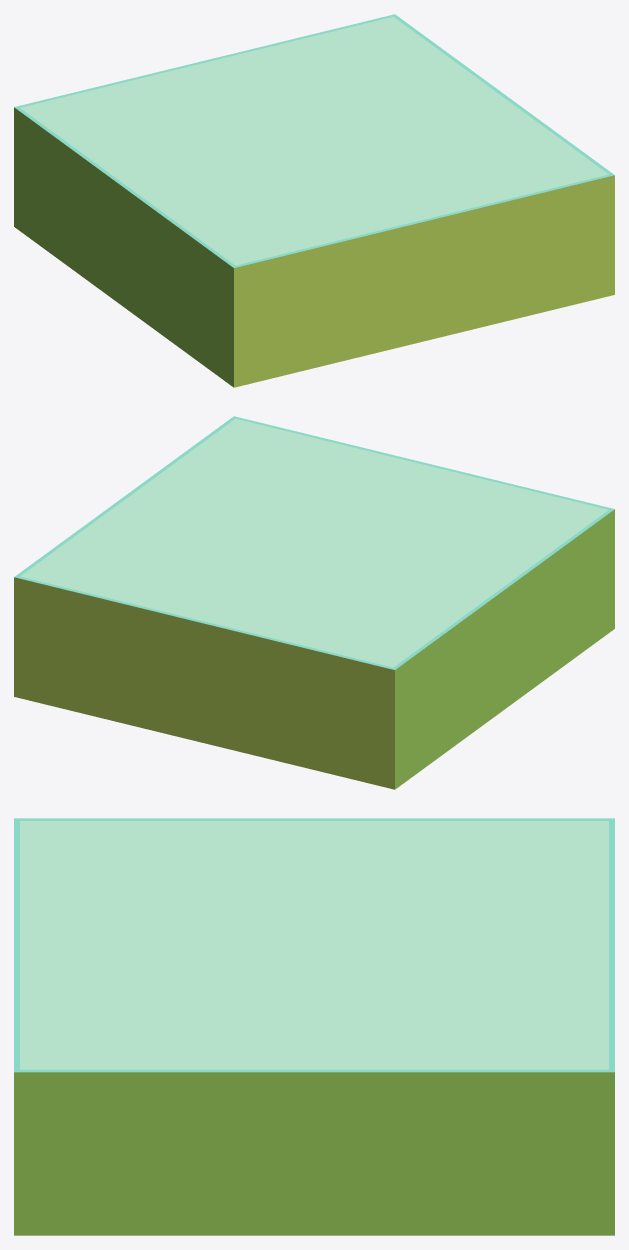
The model's file is floor_basic10.fbx.
3 views of the same model, one above another, from view 1: azimuth 30°, elevation 25°; view 2: azimuth 150°, elevation 25°; view 3: azimuth 270°, elevation 25° (orthographic). The views are drawn at different scales.
Parts seen in each view (by area): view 1: floor_basic10; view 2: floor_basic10; view 3: floor_basic10.
Boxes of the visible parts, bbox=[...] form: floor_basic10: bbox=[14, 14, 614, 387]; floor_basic10: bbox=[14, 416, 614, 789]; floor_basic10: bbox=[14, 818, 614, 1235].
Size of the model in its own units: 100 by 30 by 100.
